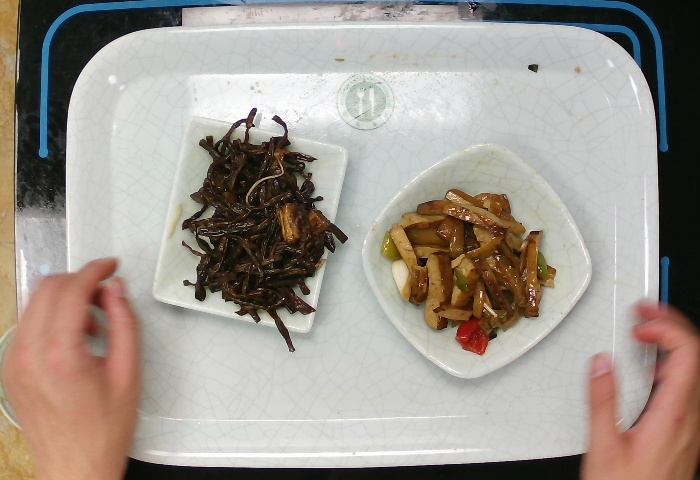WCQzf-Da_Si_Fang_Die: (353, 137, 598, 384)
WCQzf-Ru_Ci_Si_Fang_Die: (147, 103, 356, 340)
